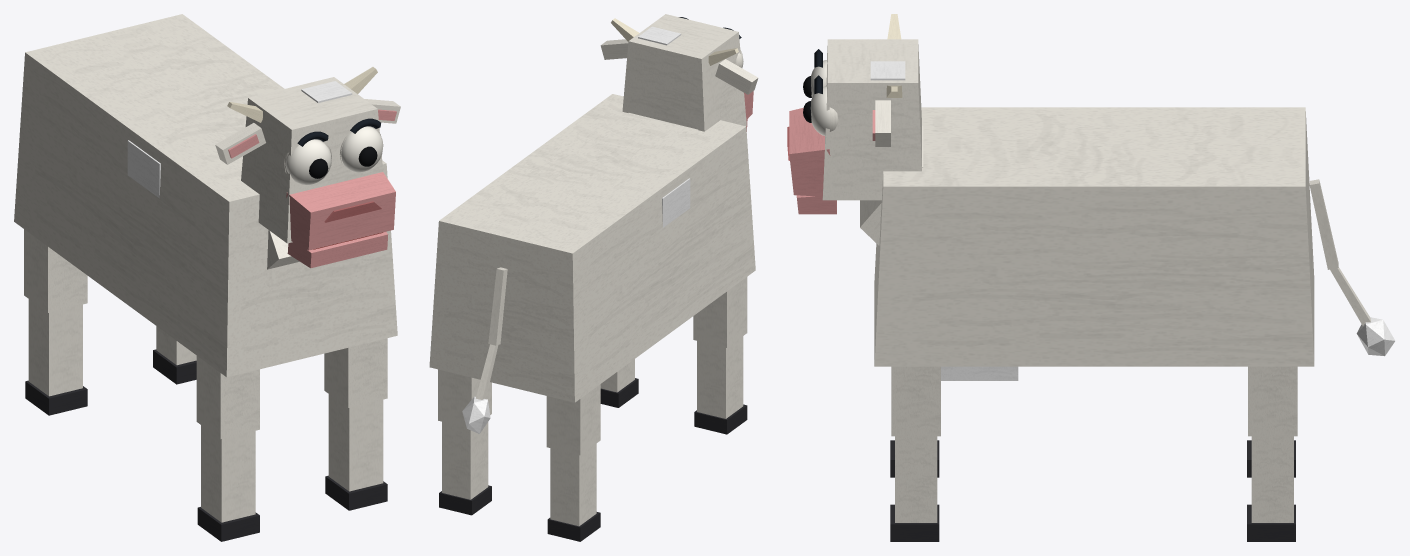
File: cow.glb
3 views of the same model, side by side, from view 1: azimuth 30°, elevation 25°; view 2: azimuth 150°, elevation 25°; view 3: azimuth 270°, elevation 25° (orthographic). The views are drawn at different scales.
Parts seen in each view (by area): view 1: body, head, kneeFL, kneeBR, kneeFR, legFR, legFL, legBR, jaw, kneeBL, earR, neck (+1 smaller); view 2: body, head, kneeBR, kneeFR, kneeBL, legBR, legFR, legBL, tail2, kneeFL, tail, earR (+1 smaller); view 3: body, head, kneeFL, kneeBL, legFL, legBL, tail2, tail, neck, earL.
Part boxes in pixels (x1,y1,x2,y2): body: (14, 14, 397, 377); head: (227, 67, 395, 250); kneeFL: (325, 394, 387, 510); kneeBR: (25, 299, 87, 415); kneeFR: (197, 425, 259, 541); legFR: (196, 356, 259, 439); legFL: (324, 338, 387, 407); legBR: (24, 229, 87, 312); jaw: (287, 232, 388, 268); kneeBL: (153, 326, 196, 384); earR: (215, 123, 265, 164); neck: (267, 230, 299, 269); body: (429, 94, 755, 402); head: (611, 14, 753, 131); kneeBR: (547, 443, 600, 541); kneeFR: (694, 336, 747, 434); kneeBL: (439, 421, 491, 515); legBR: (546, 384, 600, 455); legFR: (693, 277, 747, 347); legBL: (438, 369, 491, 427); tail2: (462, 344, 498, 433); kneeFL: (600, 359, 638, 407); tail: (488, 267, 507, 345); earR: (715, 59, 758, 94); body: (874, 107, 1314, 380); head: (787, 14, 921, 200); kneeFL: (890, 436, 939, 541); kneeBL: (1247, 436, 1295, 541); legFL: (891, 366, 940, 436); legBL: (1248, 366, 1297, 436); tail2: (1330, 267, 1395, 356); tail: (1309, 179, 1338, 269); neck: (860, 125, 923, 245); earL: (872, 100, 890, 146).
Size of the model in its own units: 0.677 by 1.58 by 1.93.
Materials: 21 (18 with a texture image).
